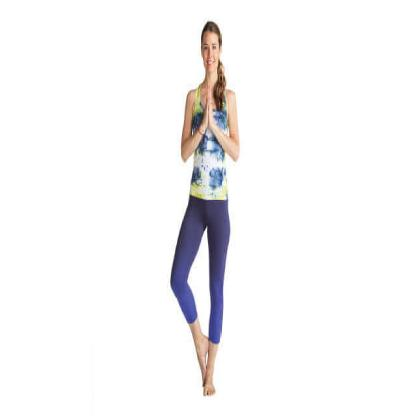tree: (166, 15, 246, 402)
